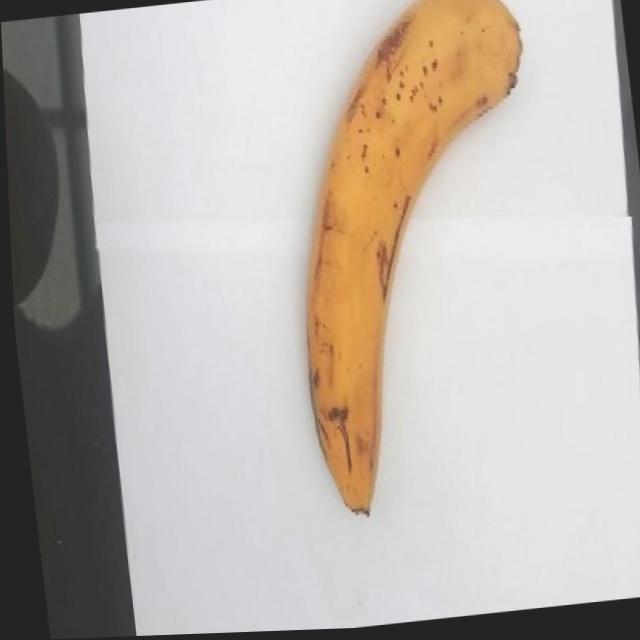Banana: (264, 0, 571, 525)
